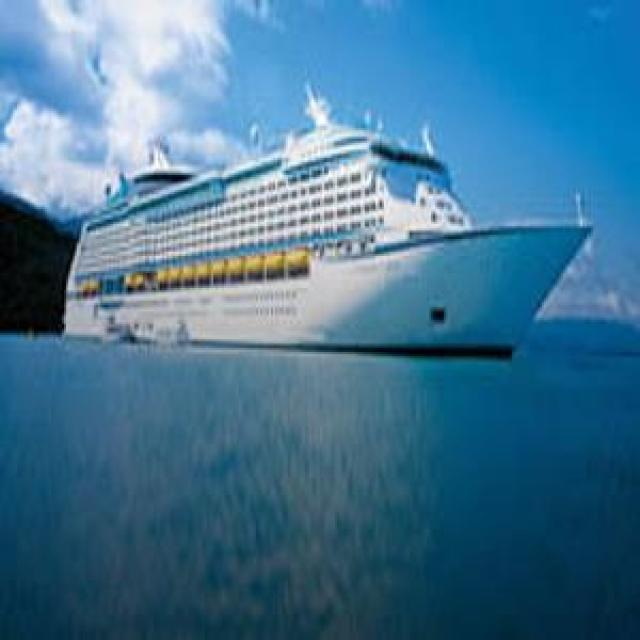passenger ship: (56, 103, 592, 360)
